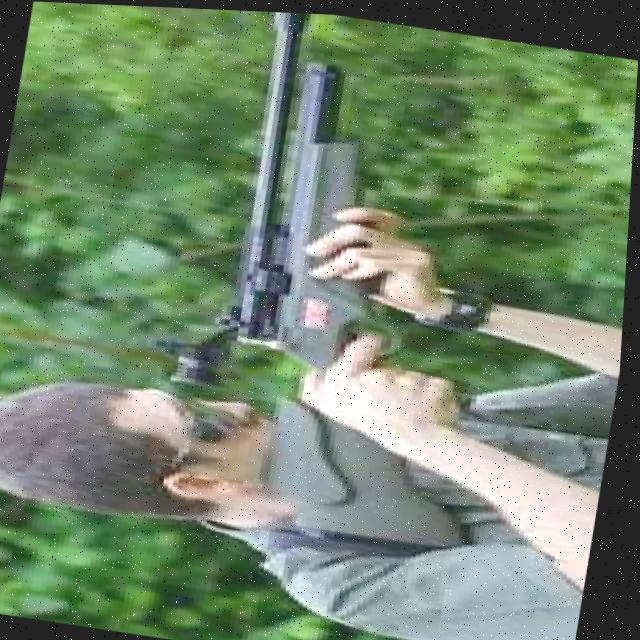firearm: (124, 5, 554, 575)
